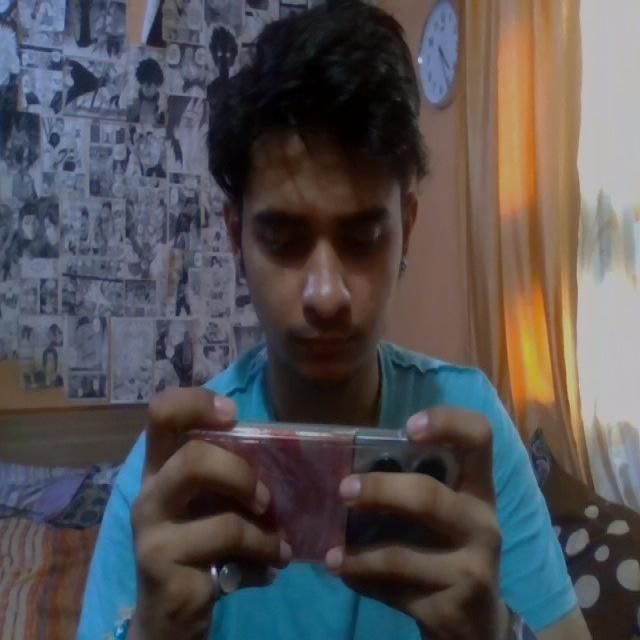phone: (191, 433, 450, 585)
using-phone: (80, 14, 598, 639)
